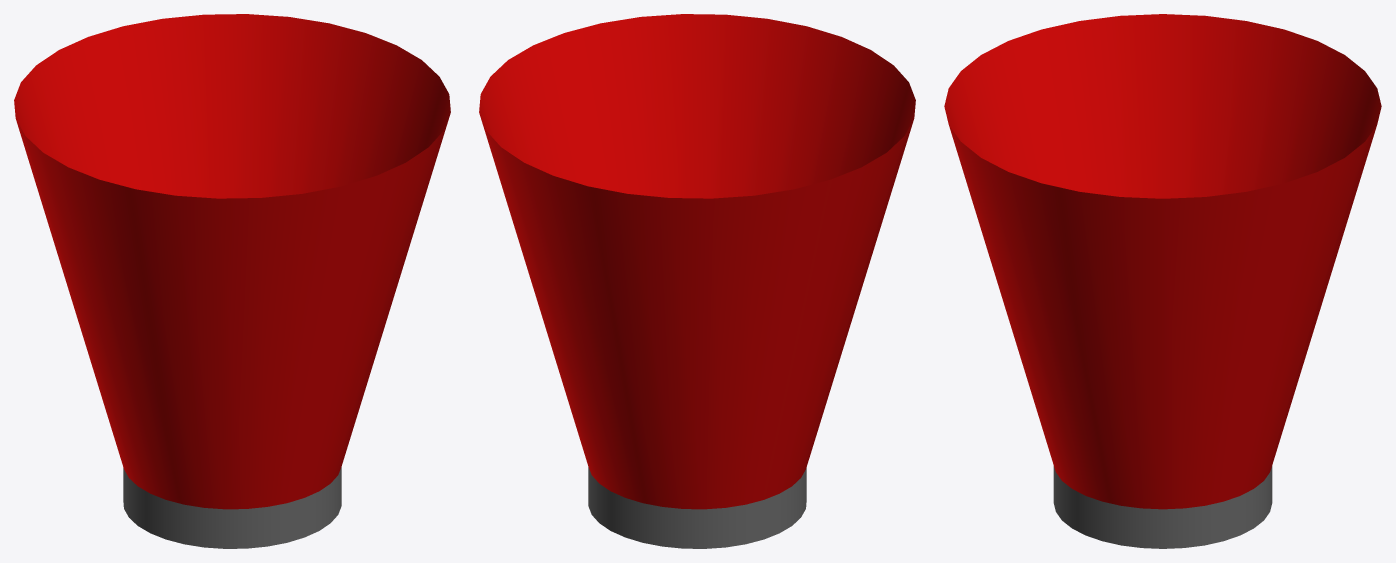
Rendered from Dragonfly_Siren_Alarm_Light.fbx.
The picture shows the model from 3 angles, left to right: view 1: azimuth 30°, elevation 25°; view 2: azimuth 150°, elevation 25°; view 3: azimuth 270°, elevation 25°; orthographic projection.
Visible parts, largest first — view 1: Siren Alarm Light; view 2: Siren Alarm Light; view 3: Siren Alarm Light.
Part boxes in pixels (x1,y1,x2,y2): Siren Alarm Light: [14, 14, 450, 548]; Siren Alarm Light: [479, 14, 915, 548]; Siren Alarm Light: [944, 14, 1381, 548].
Bounding box in the file's own units: 1 × 1 × 1.
